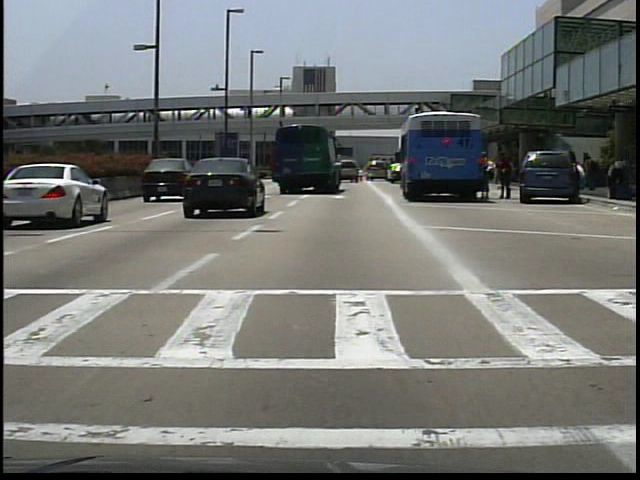person: (479, 151, 496, 201), (497, 153, 512, 199), (574, 161, 590, 201)
